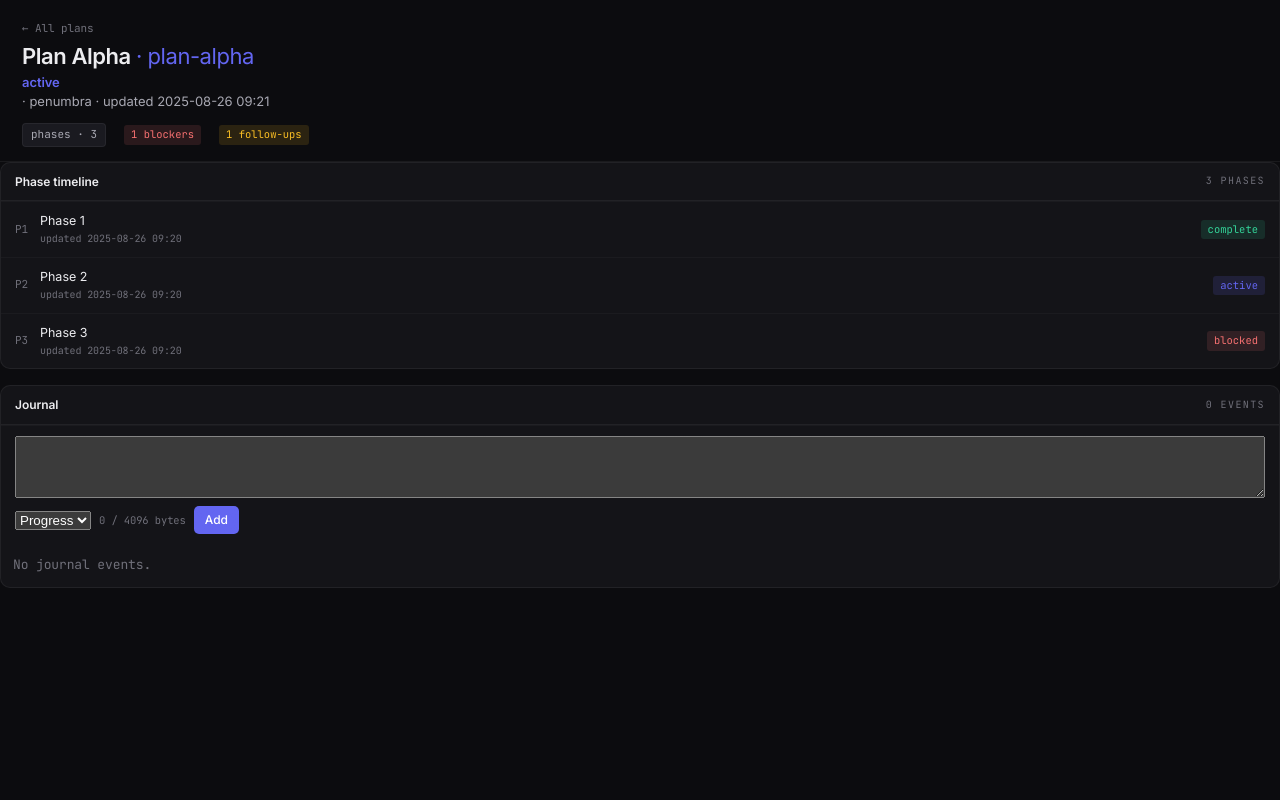
Scenario: RegistrarDetail › the Add button stays disabled while the post-append refetch is in flight
The width and height of the screenshot is (1280, 800).
Press e in the text box with test id "journal-composer-body", box [15,436,1265,498]
Type "Kickoff done" into the text box with test id "journal-composer-body".
click(640, 467); type("Kickoff done")  # box [15,436,1265,498]
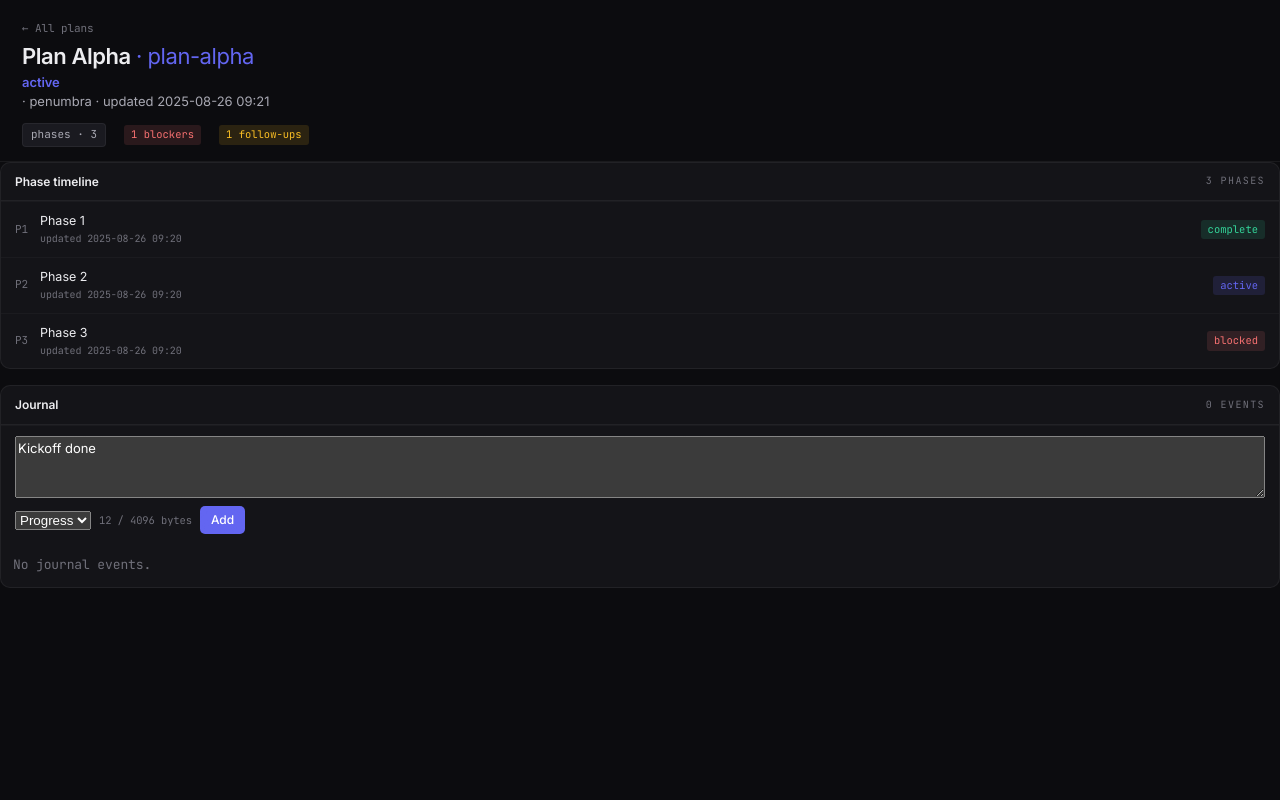
Press e in the text box with test id "journal-composer-body", box [15,436,1265,498]
Click the button with test id "journal-composer-add".
click(223, 520)  # box [200,506,245,534]
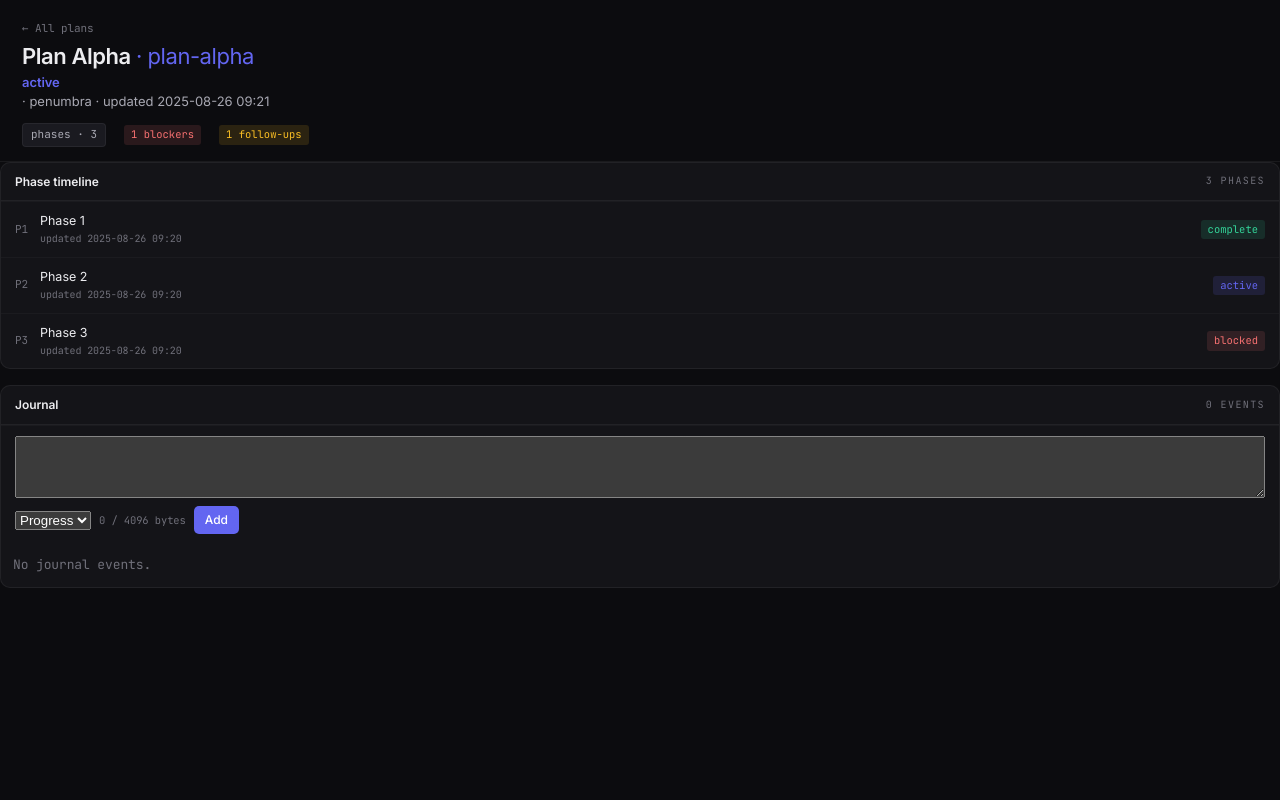
Expected: the button with test id "journal-composer-add" is disabled, [194,506,239,534]
Expected: the text box with test id "journal-composer-body" is empty, [15,436,1265,498]
